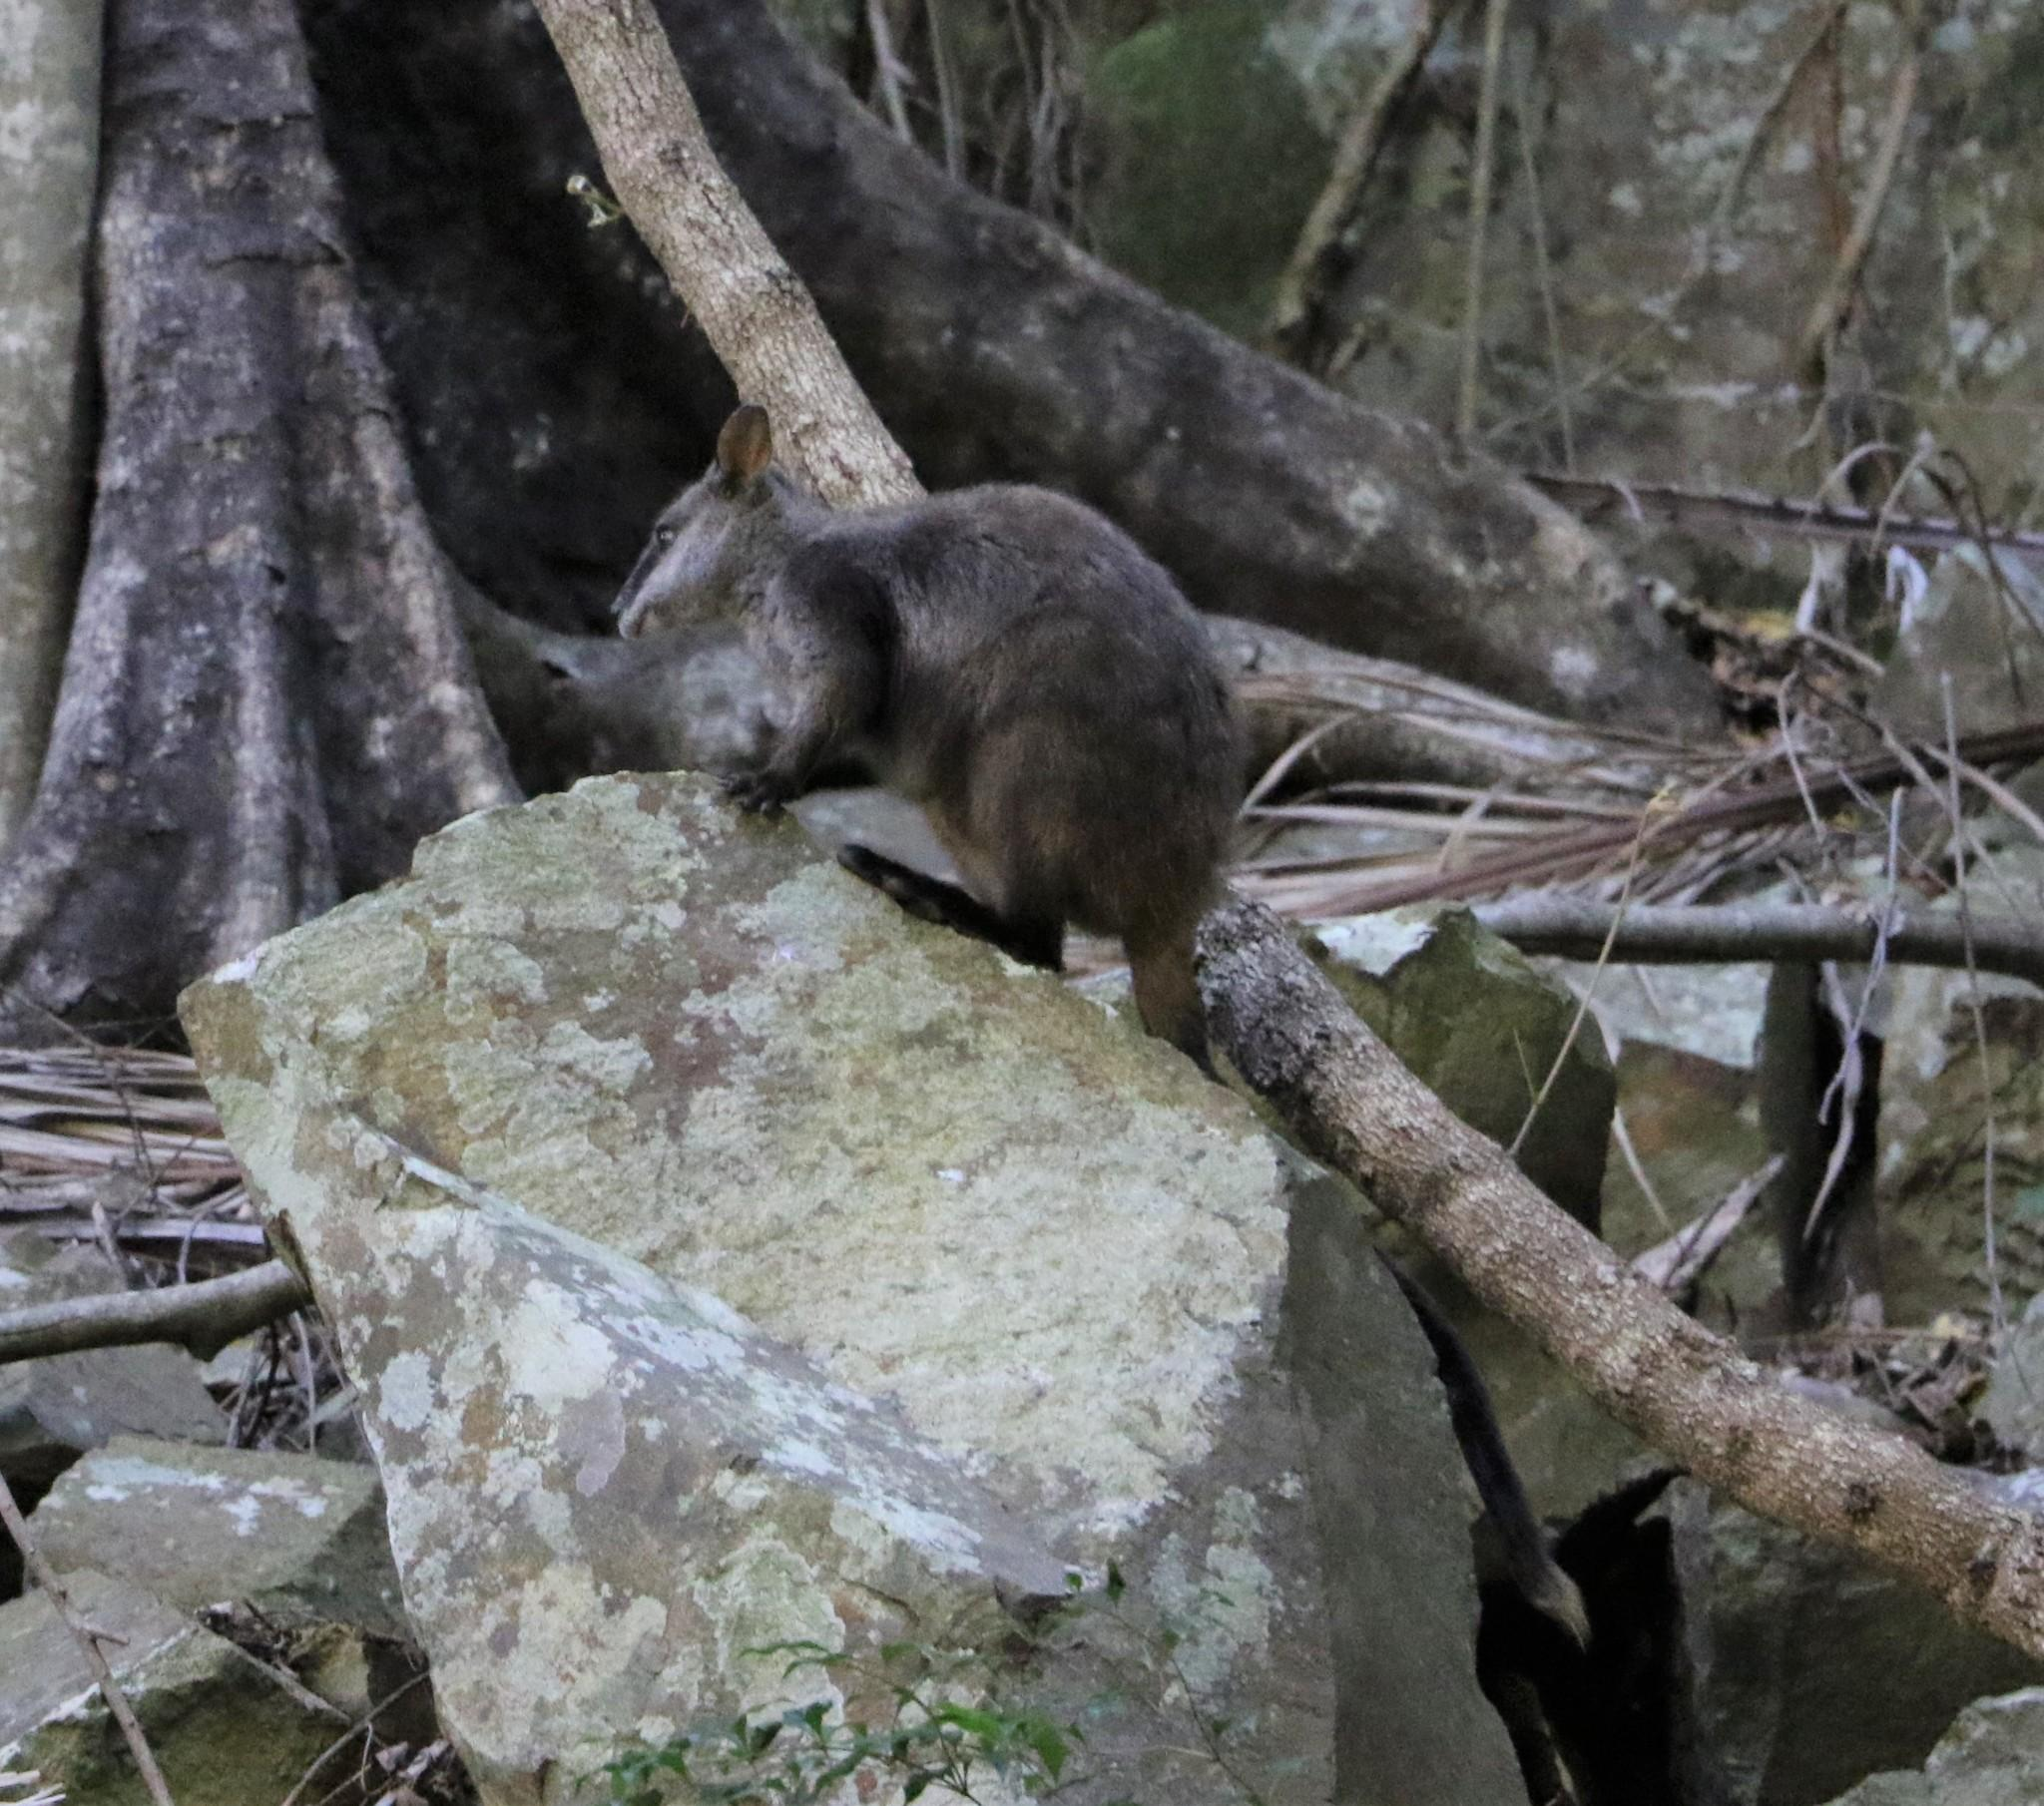Brush-tailed rock-wallaby: (602, 394, 1582, 1661)
